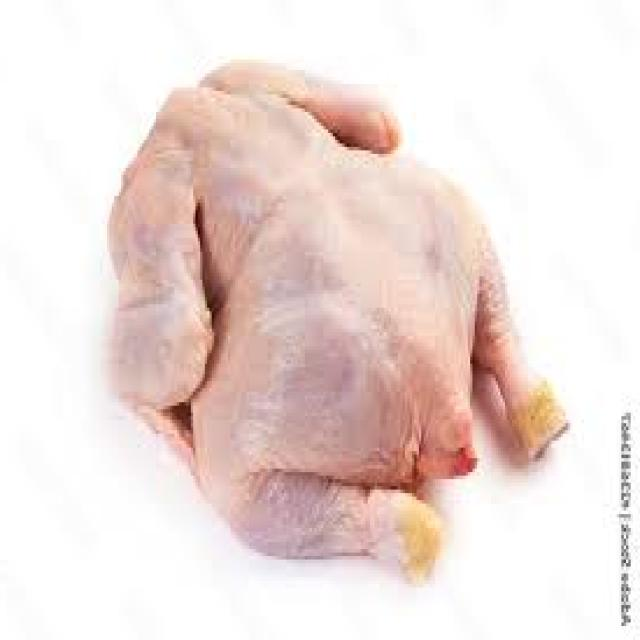Chicken: (104, 57, 569, 586)
